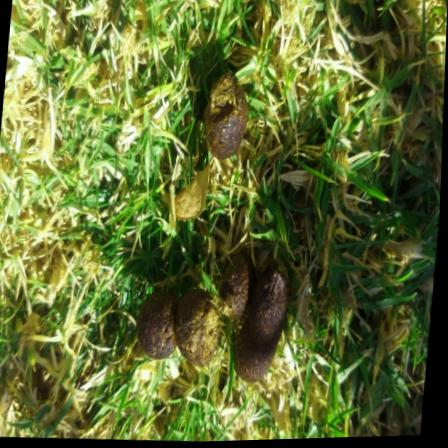dog-poop: (128, 247, 300, 385), (189, 73, 264, 156)
